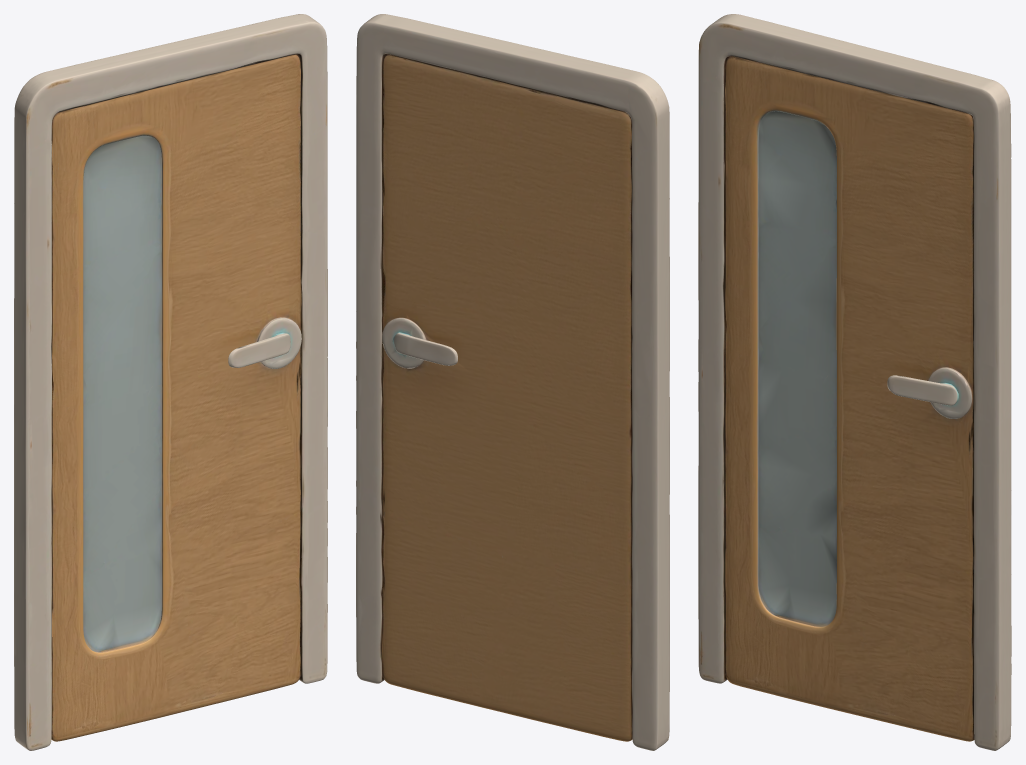
Rendered from door.high.glb.
The picture shows the model from 3 angles, left to right: view 1: azimuth 30°, elevation 25°; view 2: azimuth 150°, elevation 25°; view 3: azimuth 330°, elevation 25°; orthographic projection.
Visible parts, largest first — view 1: tripo_node_c5667a89-3a60-4292-91c1-d144dbeb9029; view 2: tripo_node_c5667a89-3a60-4292-91c1-d144dbeb9029; view 3: tripo_node_c5667a89-3a60-4292-91c1-d144dbeb9029.
Part boxes in pixels (x1,y1,x2,y2): tripo_node_c5667a89-3a60-4292-91c1-d144dbeb9029: (14,14,327,750); tripo_node_c5667a89-3a60-4292-91c1-d144dbeb9029: (356,14,669,750); tripo_node_c5667a89-3a60-4292-91c1-d144dbeb9029: (698,14,1011,750).
Bounding box in the file's own units: 0.9998 × 2.1 × 0.14.
1 material, 1 textured.
